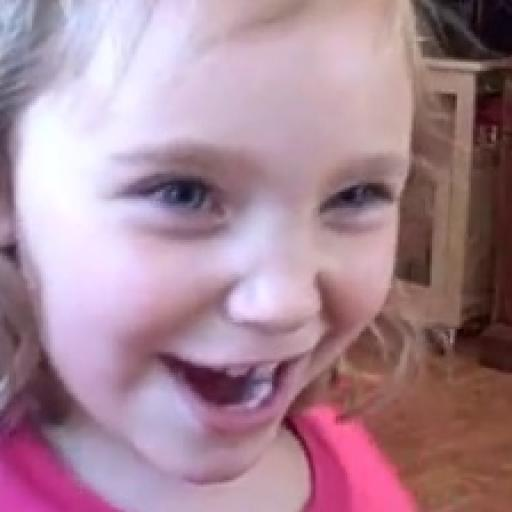Autism: (29, 4, 410, 490)
